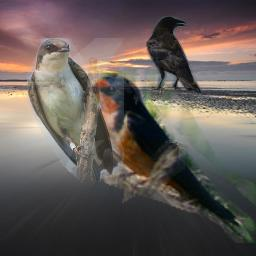Crow: (146, 16, 202, 95)
Swallow: (77, 69, 256, 243), (27, 38, 124, 183)
